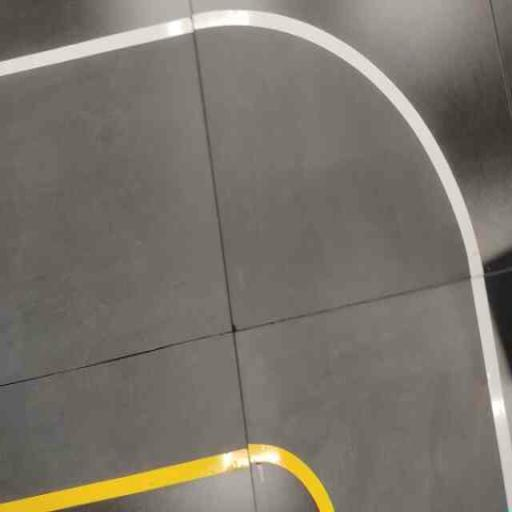left: (191, 2, 511, 511)
